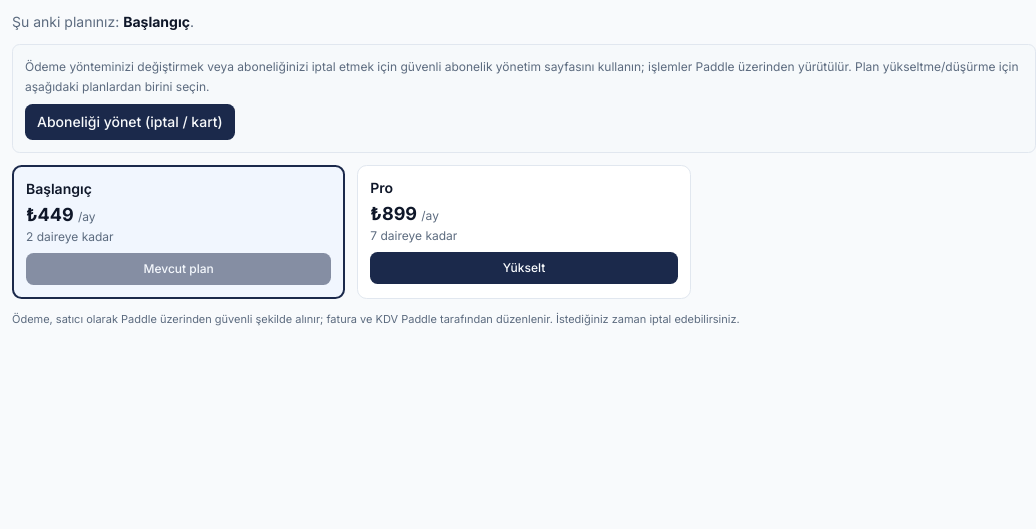
PaddlePlans — plan değişikliği onayı › KONTROL (P6): okunamayan 4xx (istek uygulamaya ulaşmadan reddedildi) → 'değişmedi' metni kalır, sayfa yenilenmez
The image size is (1036, 529).
Click the button "Yükselt" at (524, 268), box x1=370 y1=252 x2=678 y2=284
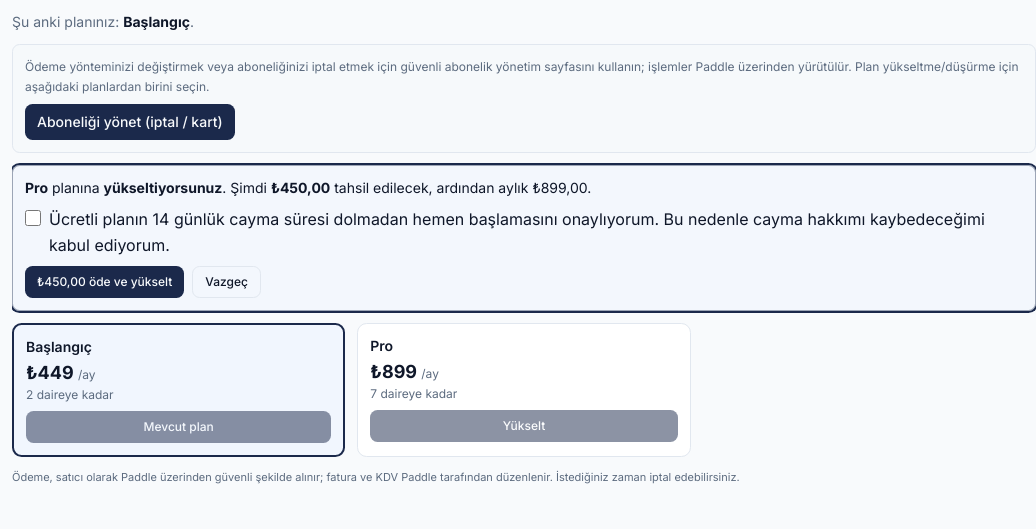
Click the checkbox named "consent-upgrade-immediateStart" at (33, 218), box x1=25 y1=210 x2=41 y2=226
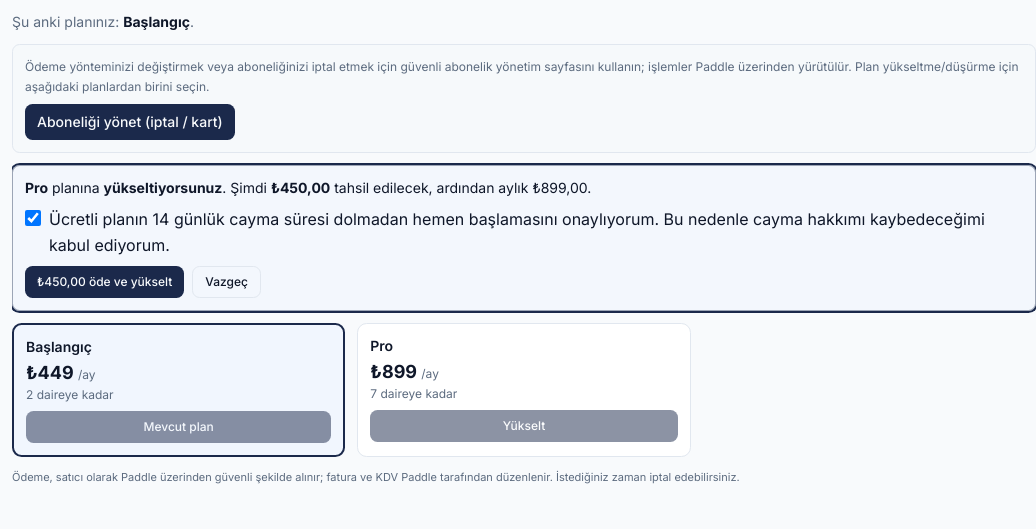
Click the button "₺450,00 öde ve yükselt" at (105, 282), box x1=25 y1=266 x2=184 y2=298
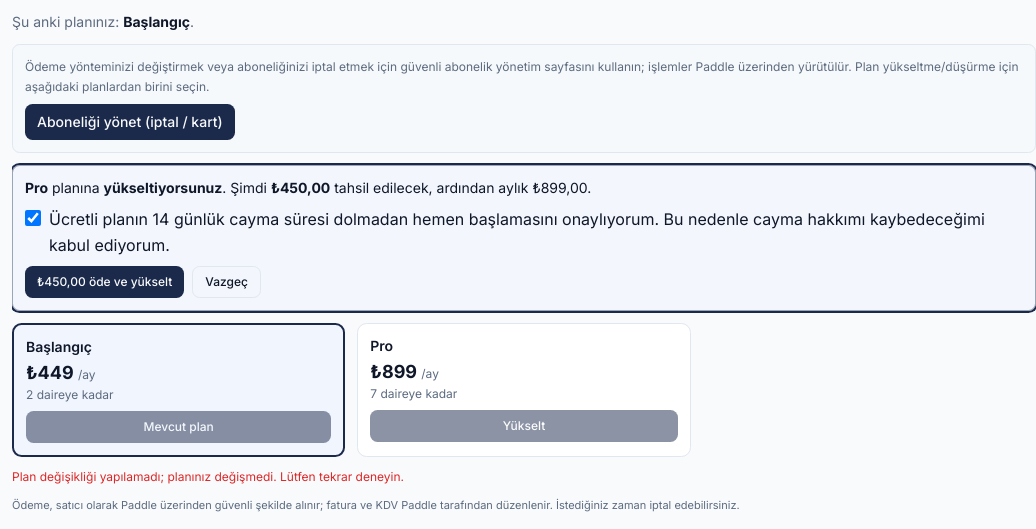
Check: the text "Plan değişikliği yapılamadı; planınız değişmedi. Lütfen tekrar deneyin." is shown, box x1=12 y1=469 x2=404 y2=484
